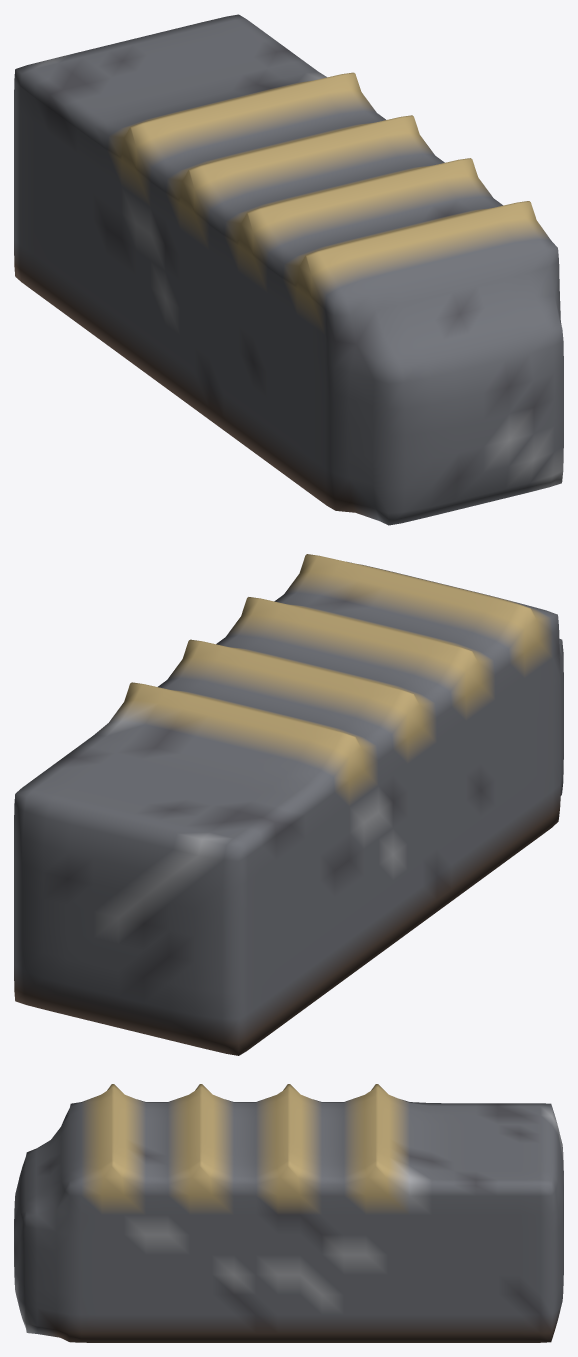
File: plate_rare_boot_foot_L.glb
3 renders of one model, top to bottom at view 1: azimuth 30°, elevation 25°; view 2: azimuth 150°, elevation 25°; view 3: azimuth 270°, elevation 25°, orthographic. The views are drawn at different scales.
Parts seen in each view (by area): view 1: plate_rare_boot_foot_L; view 2: plate_rare_boot_foot_L; view 3: plate_rare_boot_foot_L.
Boxes of the visible parts, bbox=[...] form: plate_rare_boot_foot_L: bbox=[14, 14, 563, 525]; plate_rare_boot_foot_L: bbox=[14, 554, 563, 1055]; plate_rare_boot_foot_L: bbox=[14, 1084, 563, 1342].
Size of the model in its own units: 0.108 by 0.1076 by 0.3.
